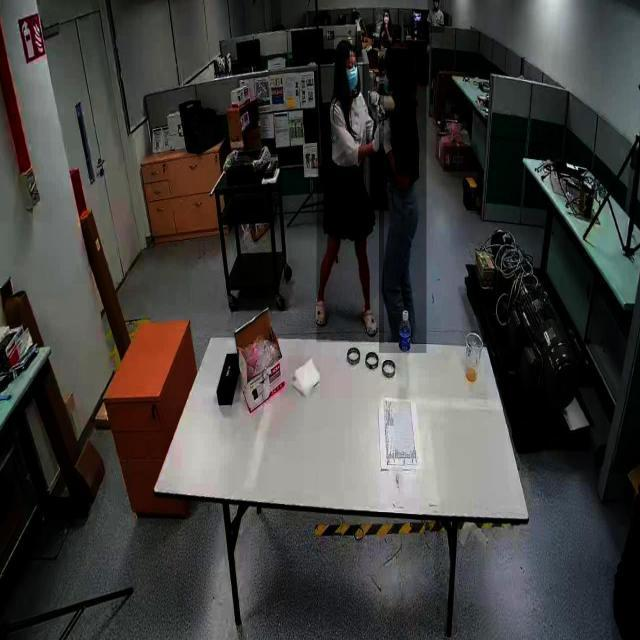gloves: (368, 119, 391, 157), (373, 85, 393, 118)
